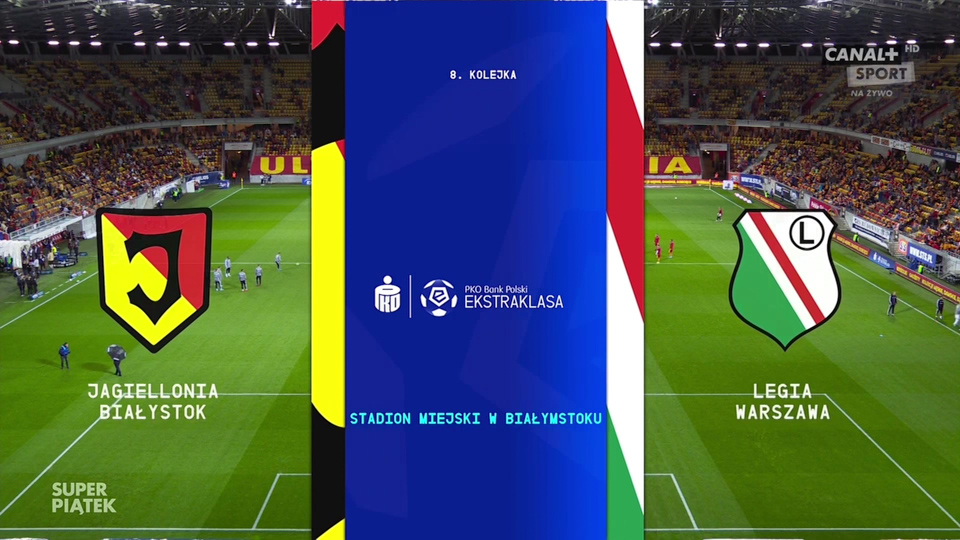pko: (370, 272, 403, 315)
